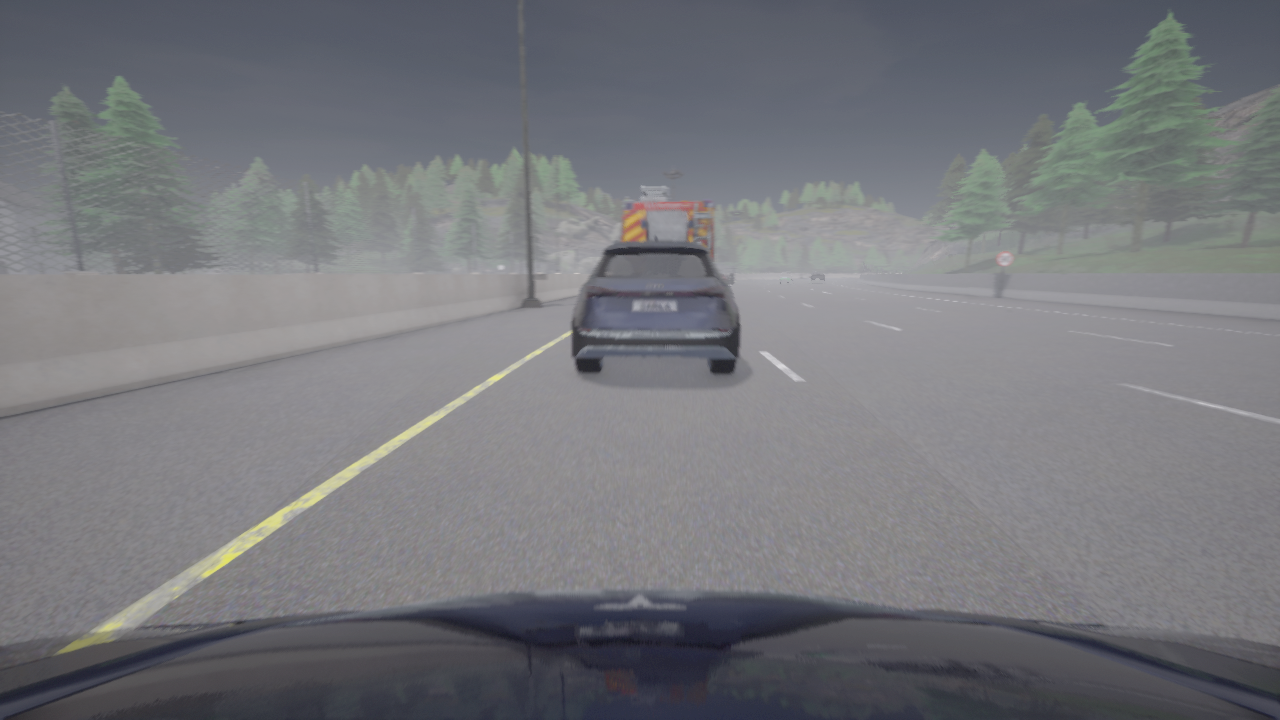cyclist: (0, 588, 1279, 719), (572, 237, 739, 374), (621, 186, 714, 261), (809, 271, 827, 282), (719, 271, 733, 283), (778, 272, 791, 284)
